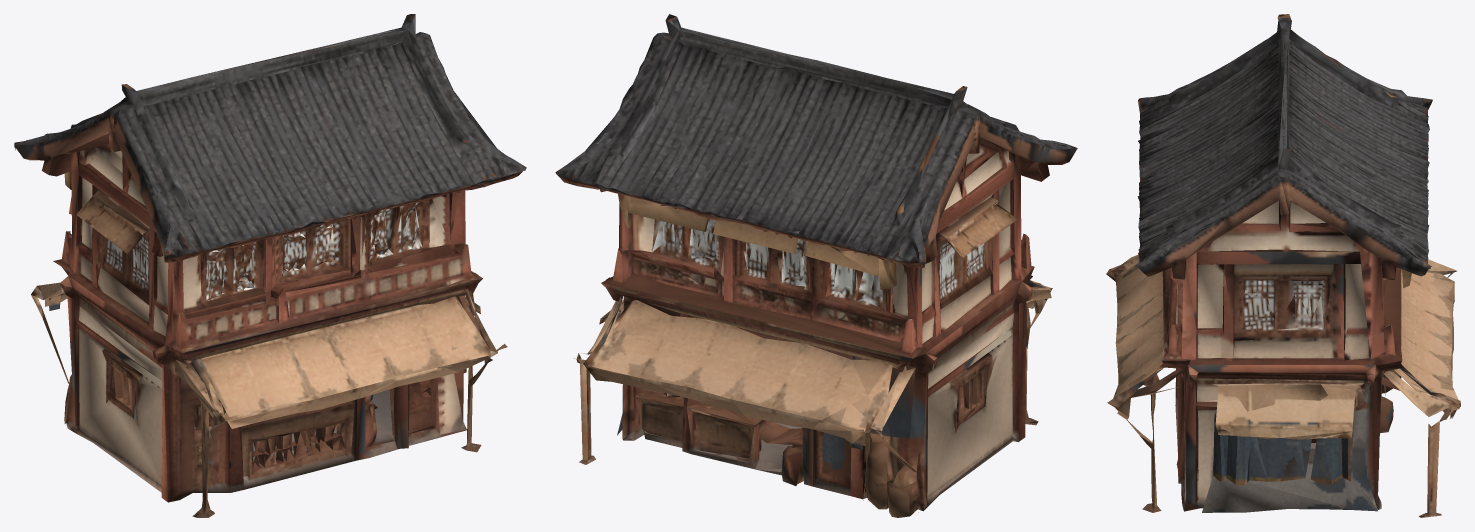
File: 16_Two_Story_Merchant_Shop_LOD2.fbx
The picture shows the model from 3 angles, left to right: view 1: azimuth 30°, elevation 25°; view 2: azimuth 150°, elevation 25°; view 3: azimuth 270°, elevation 25°; orthographic projection. The views are drawn at different scales.
Visible parts, largest first — view 1: 16_Two_Story_Merchant_Shop_L2; view 2: 16_Two_Story_Merchant_Shop_L2; view 3: 16_Two_Story_Merchant_Shop_L2.
Part boxes in pixels (x1,y1,x2,y2): 16_Two_Story_Merchant_Shop_L2: (14,14,526,517); 16_Two_Story_Merchant_Shop_L2: (555,14,1077,517); 16_Two_Story_Merchant_Shop_L2: (1106,14,1460,517).
Size of the model in its own units: 8.92 by 9 by 7.9.
